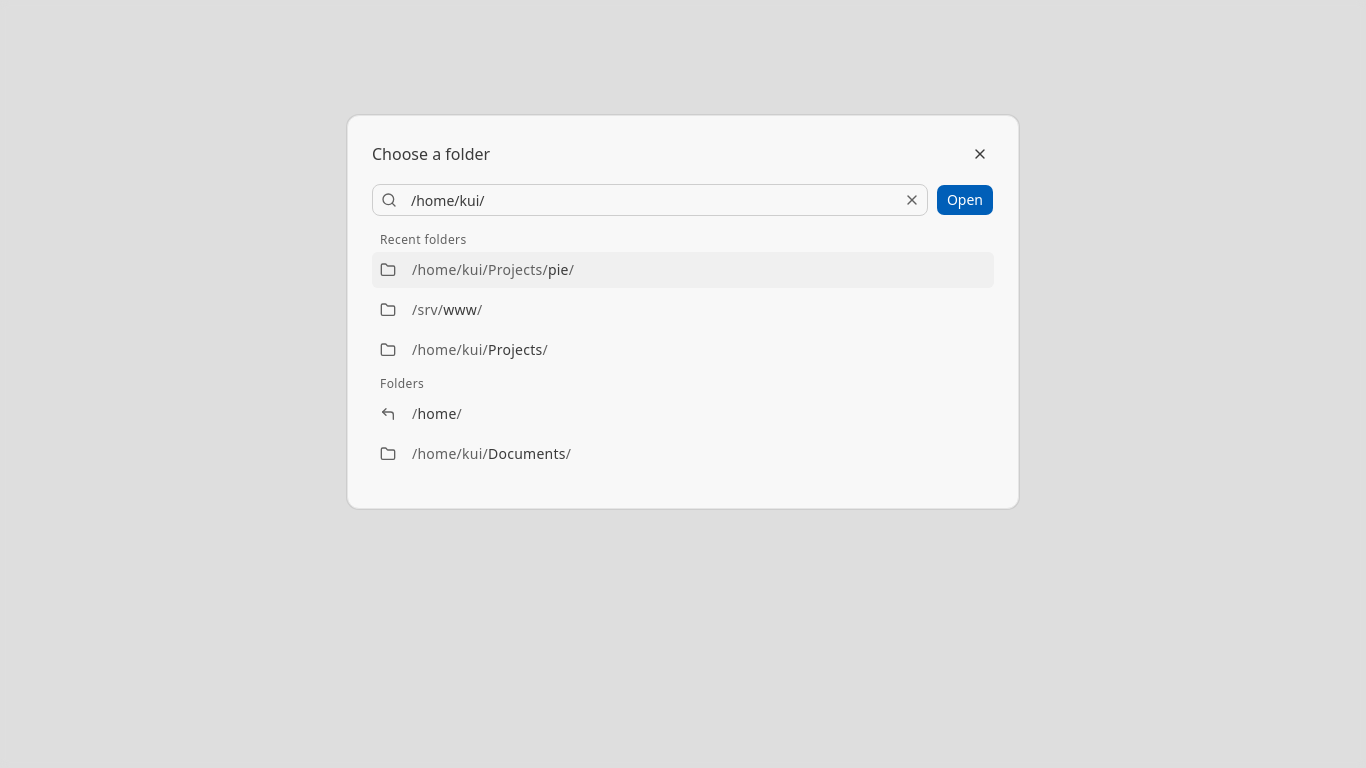
the directory picker › clears the typing with the clear key
The image size is (1366, 768).
Expected: the button named "Clear" is shown, [900,188,924,212]
Replace the text in the field named "Folder path" with "pic": (652, 200) [405,184,900,216]
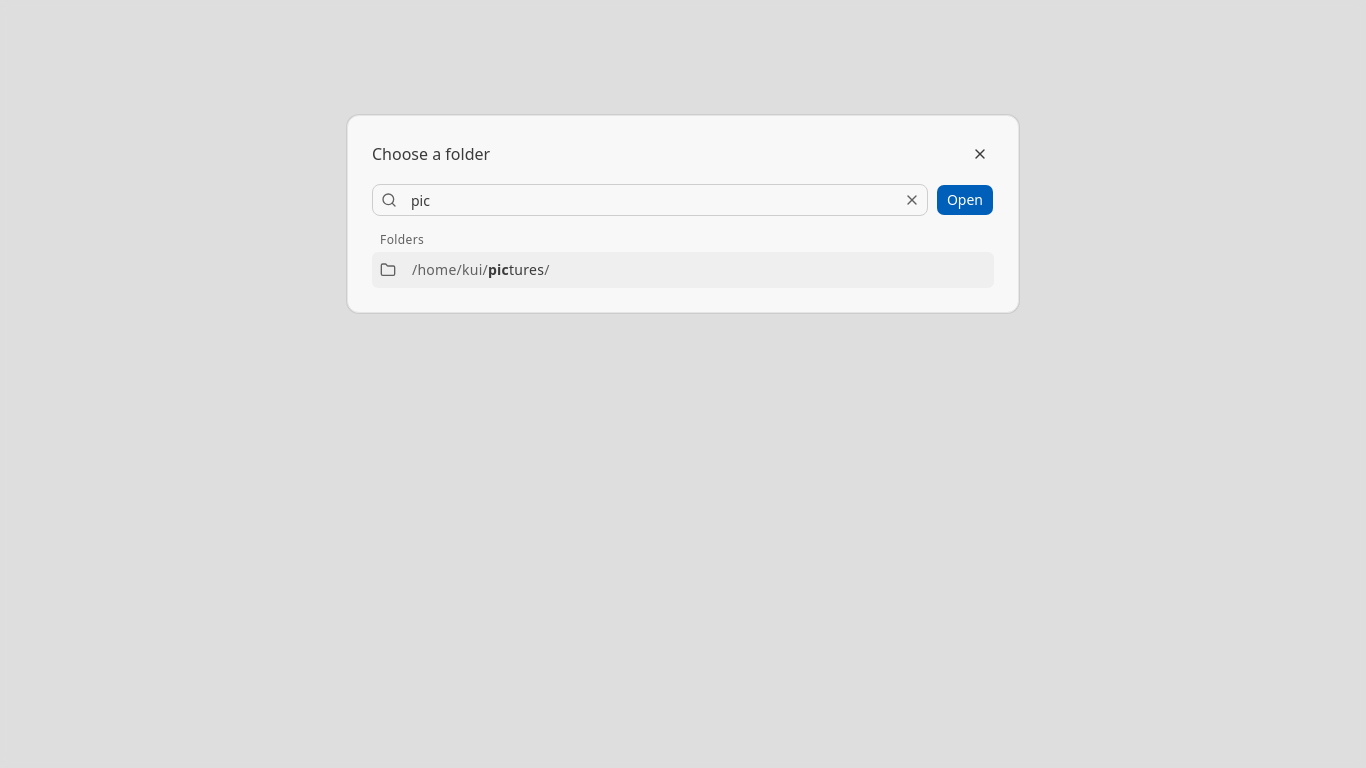
Click the button named "Clear": (912, 200) [900,188,924,212]
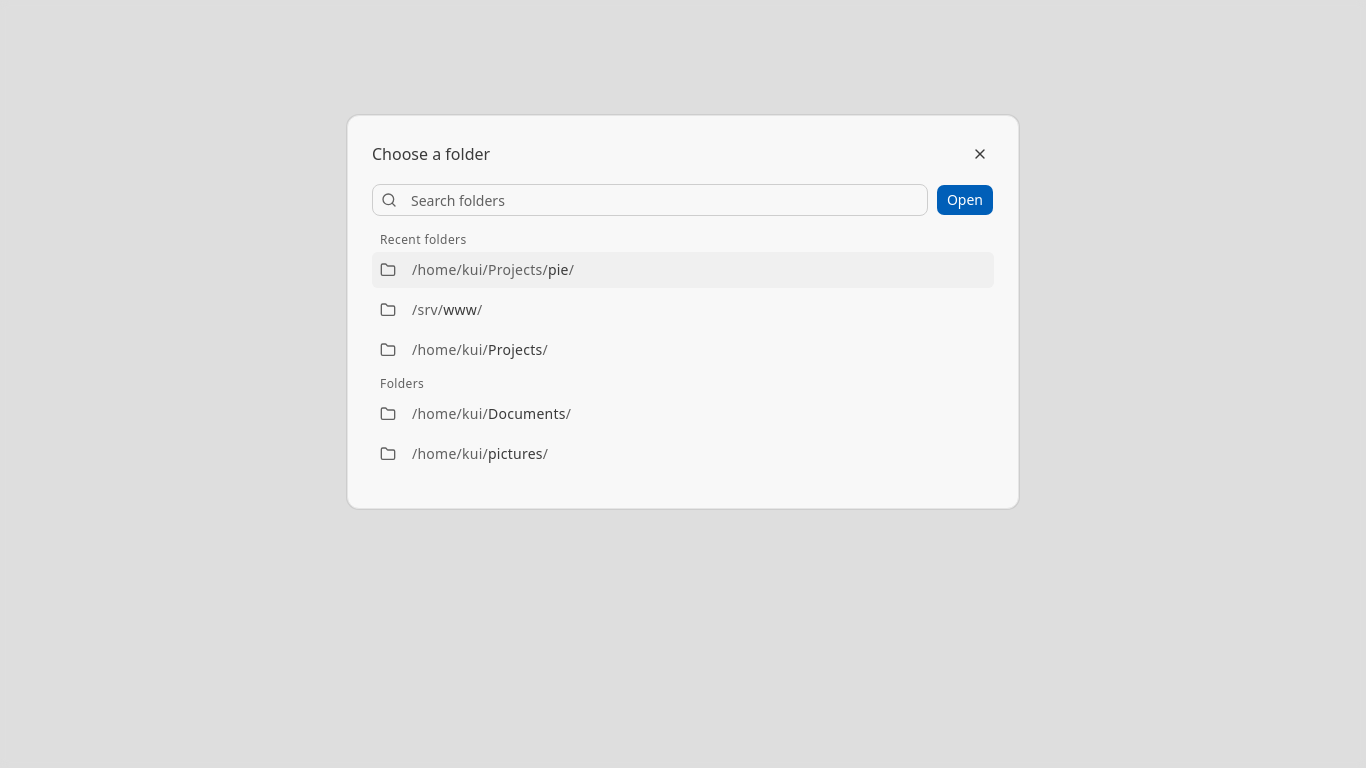
Expected: the field named "Folder path" is empty, [405,184,927,216]
Expected: the button "Clear" is gone
Expected: the option "/home/kui/Documents/" is shown, [372,396,994,432]
